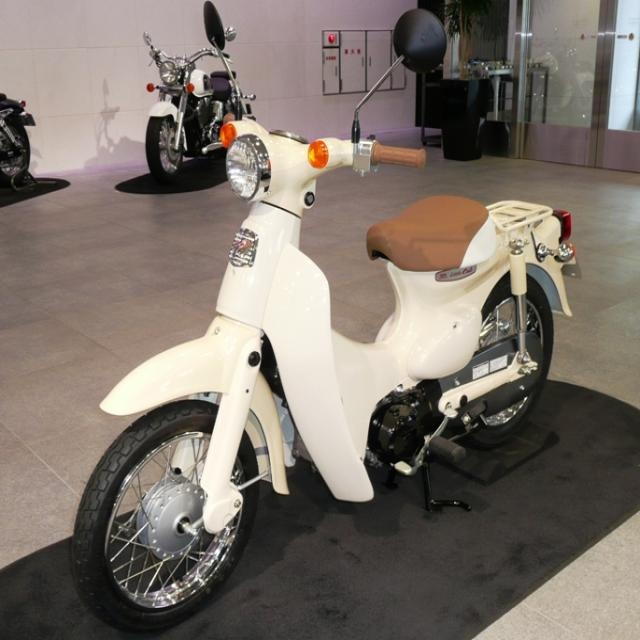Motorcycle: (53, 0, 579, 640), (133, 18, 255, 189)
